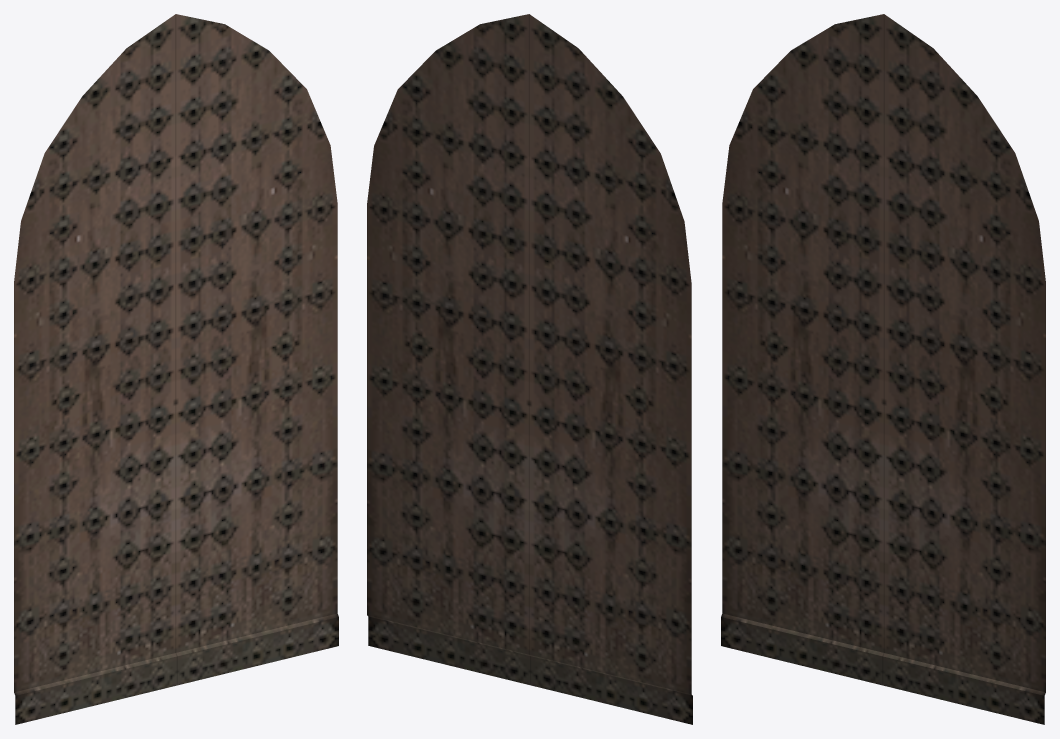
The picture shows the model from 3 angles, left to right: view 1: azimuth 30°, elevation 25°; view 2: azimuth 150°, elevation 25°; view 3: azimuth 330°, elevation 25°; orthographic projection.
Parts seen in each view (by area): view 1: LV_LobbyDoor_SM_YCY; view 2: LV_LobbyDoor_SM_YCY; view 3: LV_LobbyDoor_SM_YCY.
Part boxes in pixels (bbox=[...]): LV_LobbyDoor_SM_YCY: bbox=[14, 14, 338, 724]; LV_LobbyDoor_SM_YCY: bbox=[367, 14, 692, 724]; LV_LobbyDoor_SM_YCY: bbox=[721, 14, 1045, 724].
Bounding box in the file's own units: 1.18 × 2.34 × 0.00857.
Materials: 1 (1 with a texture image).
